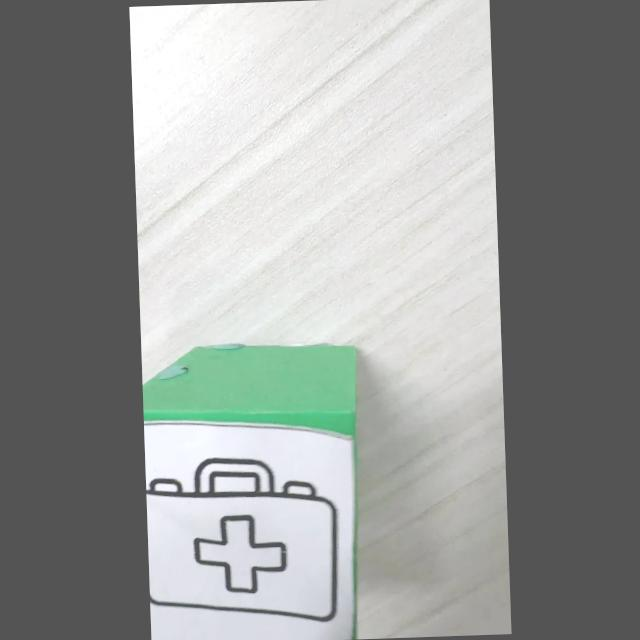Medkit: (146, 460, 339, 621)
